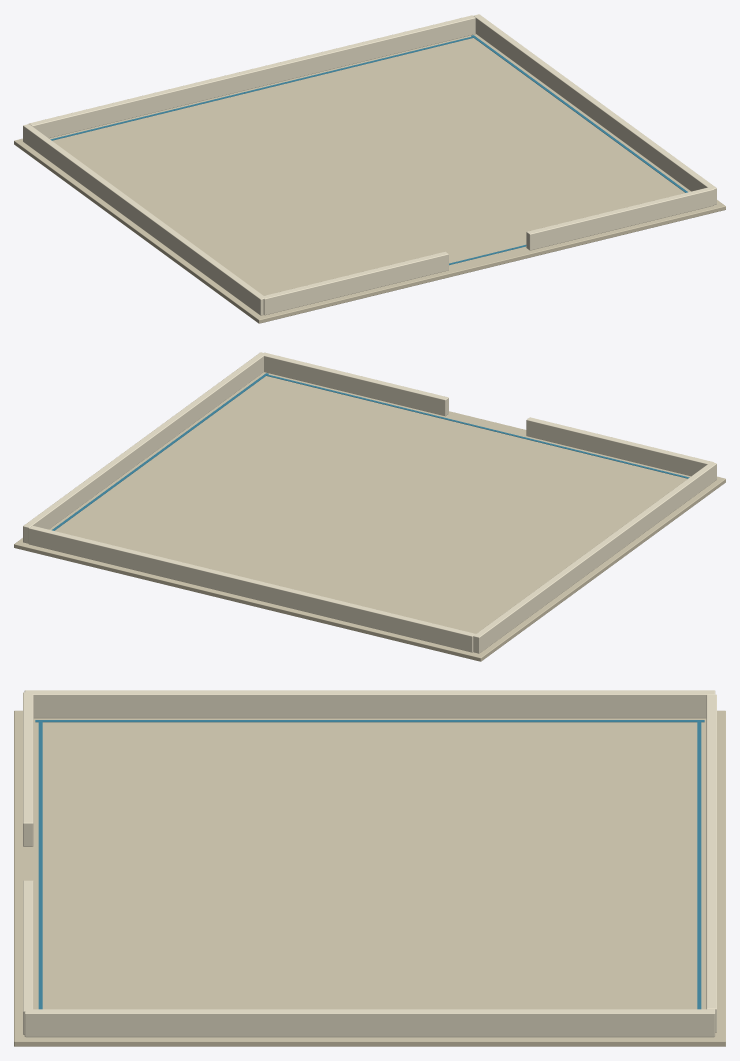
The model's file is fantasy-bathhouse-and-thermal-sanctuary-fantasy-bathho-b6672f27__29479.glb.
3 renders of one model, top to bottom at view 1: azimuth 30°, elevation 25°; view 2: azimuth 150°, elevation 25°; view 3: azimuth 270°, elevation 25°, orthographic. The views are drawn at different scales.
Visible parts, largest first — view 1: fantasy-bathhouse-and-thermal-sanctuary-courtyard-base; view 2: fantasy-bathhouse-and-thermal-sanctuary-courtyard-base; view 3: fantasy-bathhouse-and-thermal-sanctuary-courtyard-base.
Part boxes in pixels (x1,y1,x2,y2): fantasy-bathhouse-and-thermal-sanctuary-courtyard-base: [14, 14, 725, 323]; fantasy-bathhouse-and-thermal-sanctuary-courtyard-base: [14, 352, 725, 661]; fantasy-bathhouse-and-thermal-sanctuary-courtyard-base: [14, 690, 725, 1046].
Size of the model in its own units: 22 by 0.9303 by 20.
